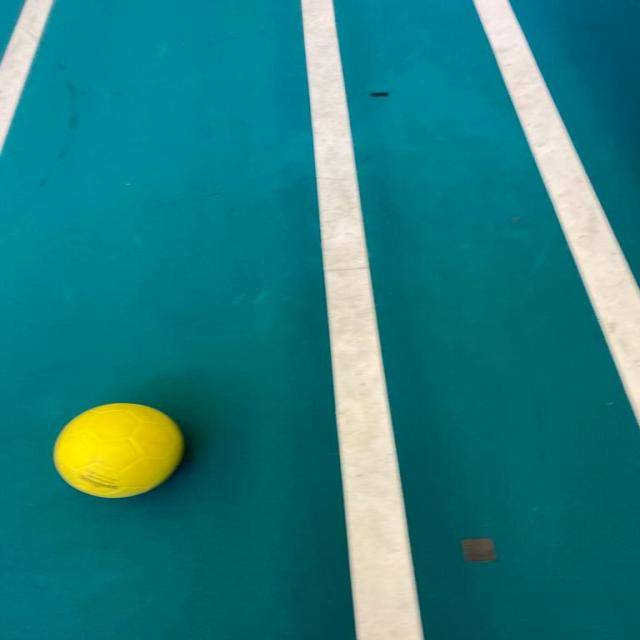ball: (38, 396, 194, 504)
